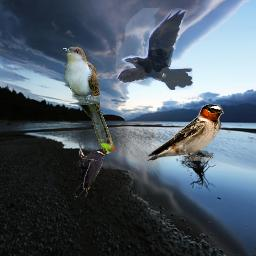Crow: (116, 8, 193, 90)
Cuckoo: (61, 46, 115, 151)
Swallow: (146, 103, 224, 161)
Woodpecker: (74, 139, 116, 200)
